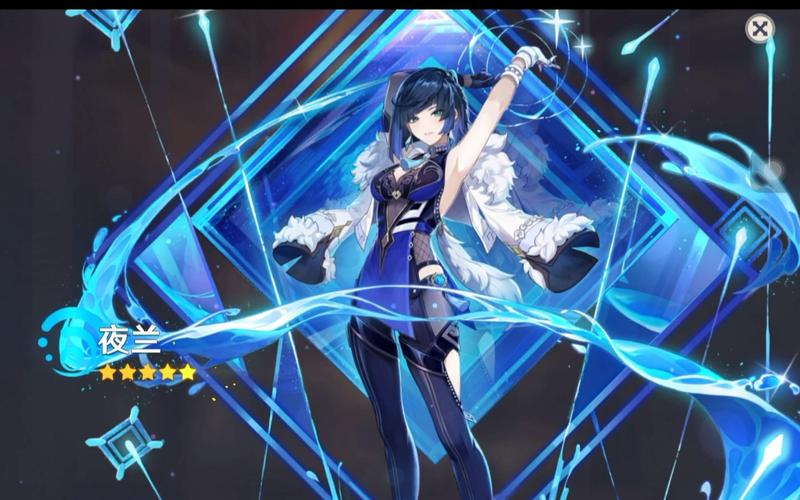夜兰: (349, 38, 563, 499)
